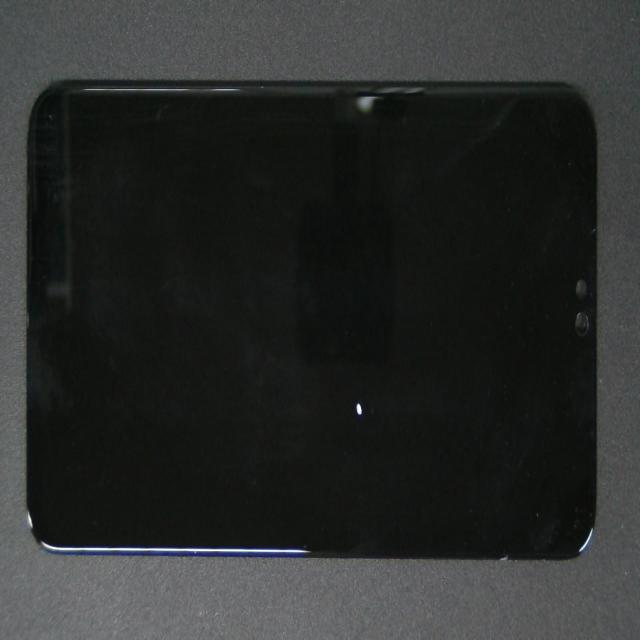Dislodged Screen: (347, 388, 390, 448)
